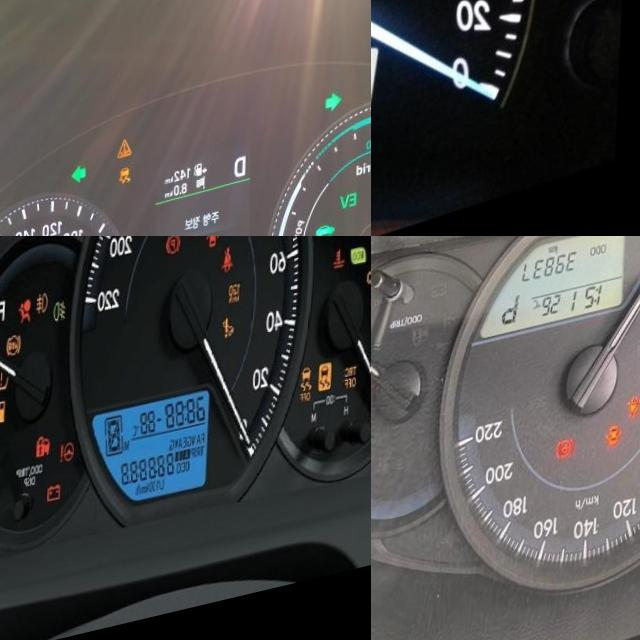Electronic Power Steering: (64, 449, 80, 473)
High Engine Coolant Temperature: (337, 271, 348, 290)
Seat Belt: (225, 263, 237, 290), (629, 410, 640, 437)
